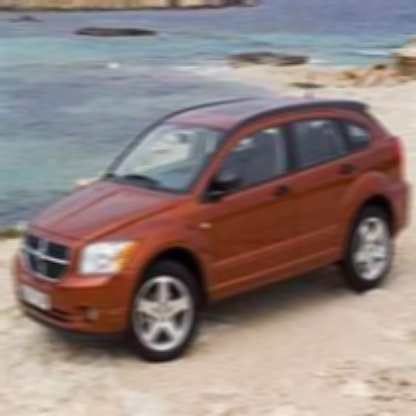Vehicle: (13, 94, 411, 364)
